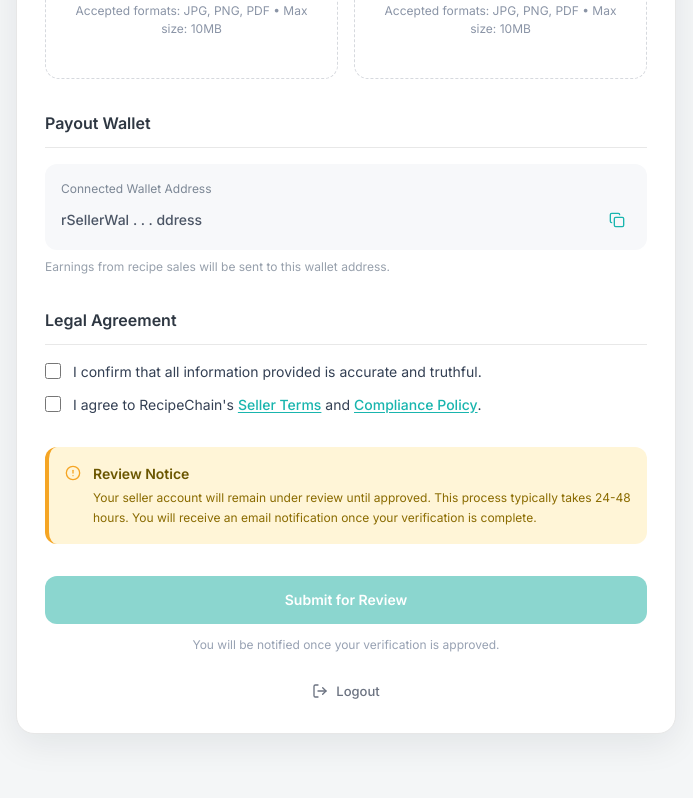
Test: SellerKycForm › shows validation errors when submitting empty form
This screenshot has width=693, height=798.
(page scrolled)
Click the button "Submit for Review" at [346, 600], box [45,576,647,624]
(page scrolled)
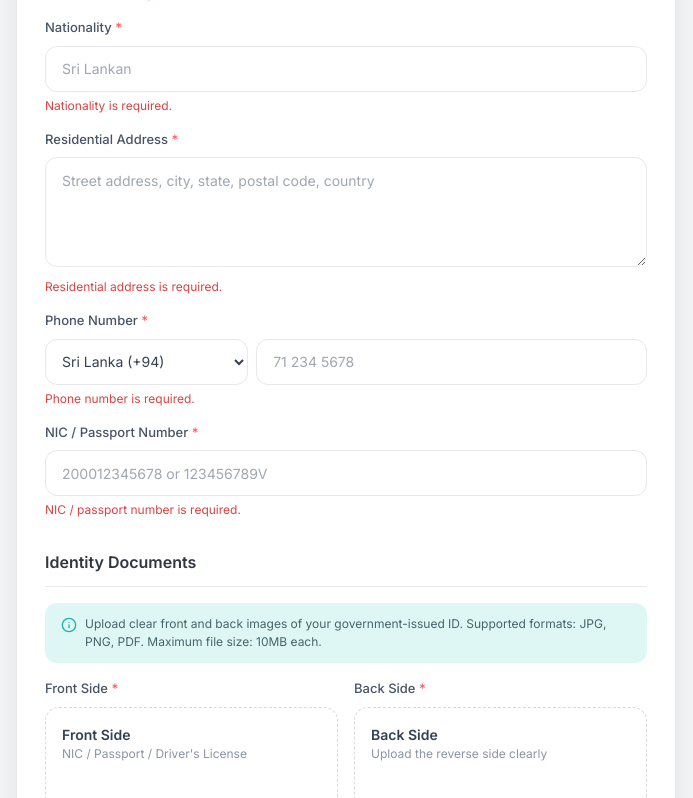
Result: the text "Nationality is required." is shown at [45,98,172,112]
Result: the text "Residential address is required." is shown at [45,279,222,294]
Result: the text "Phone number is required." is shown at [45,390,195,406]
